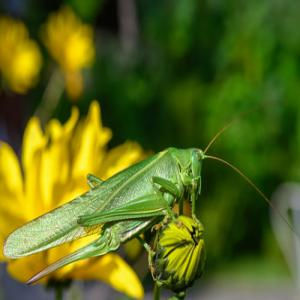locust: (1, 119, 235, 281)
